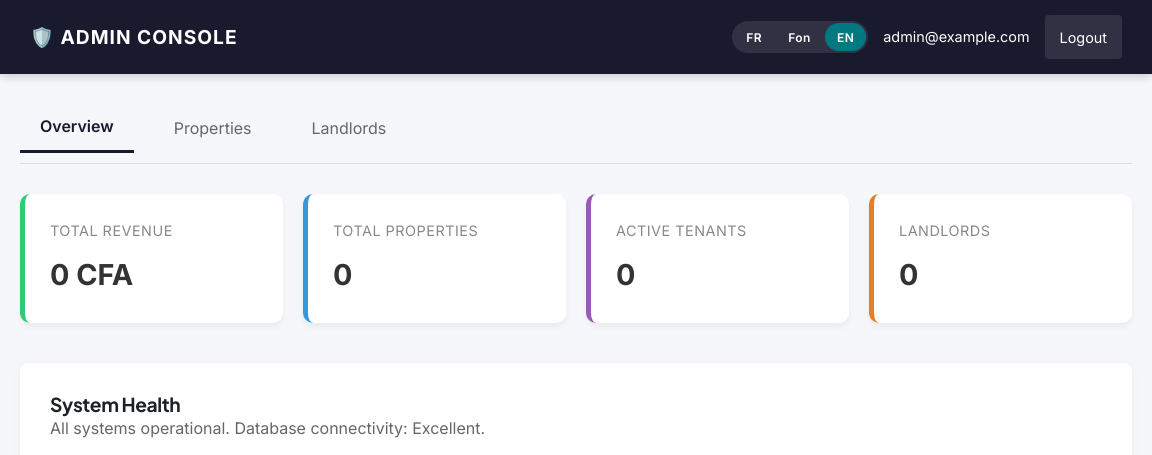
Test: AdminDashboard › shows empty properties message when none exist
Click the text "Properties": (213, 128) 174,118 -> 252,138
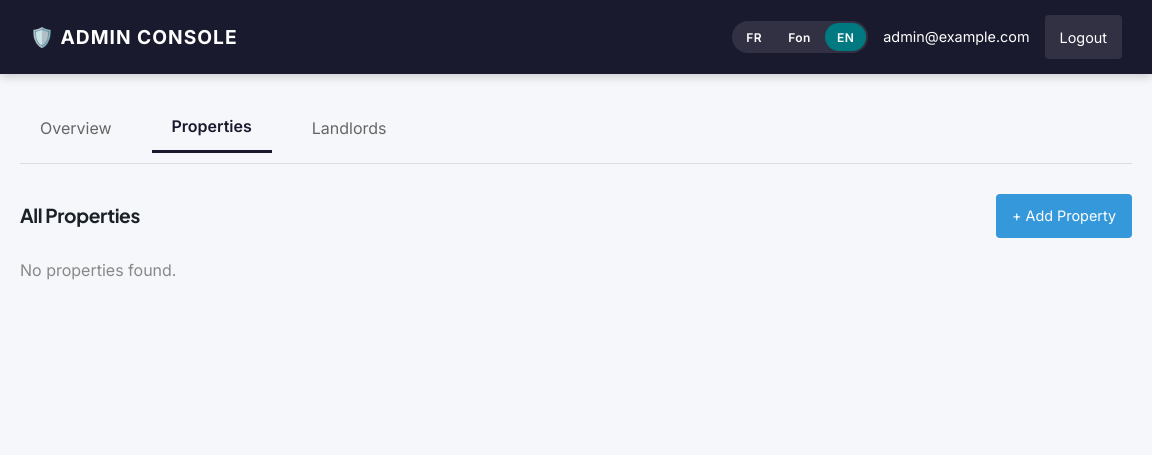
Now the text "No properties found." is shown, box 20,260 -> 176,280
